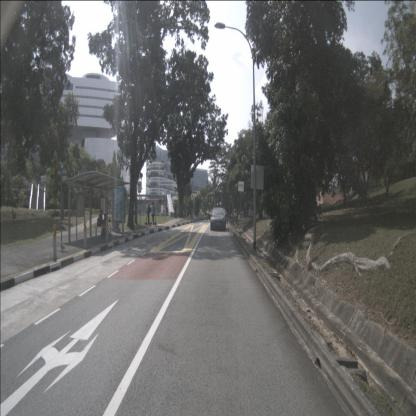human-pedestrian-adult: (97, 209, 107, 236), (151, 202, 156, 225), (146, 203, 151, 225)
vehicle-car: (210, 208, 226, 230)
